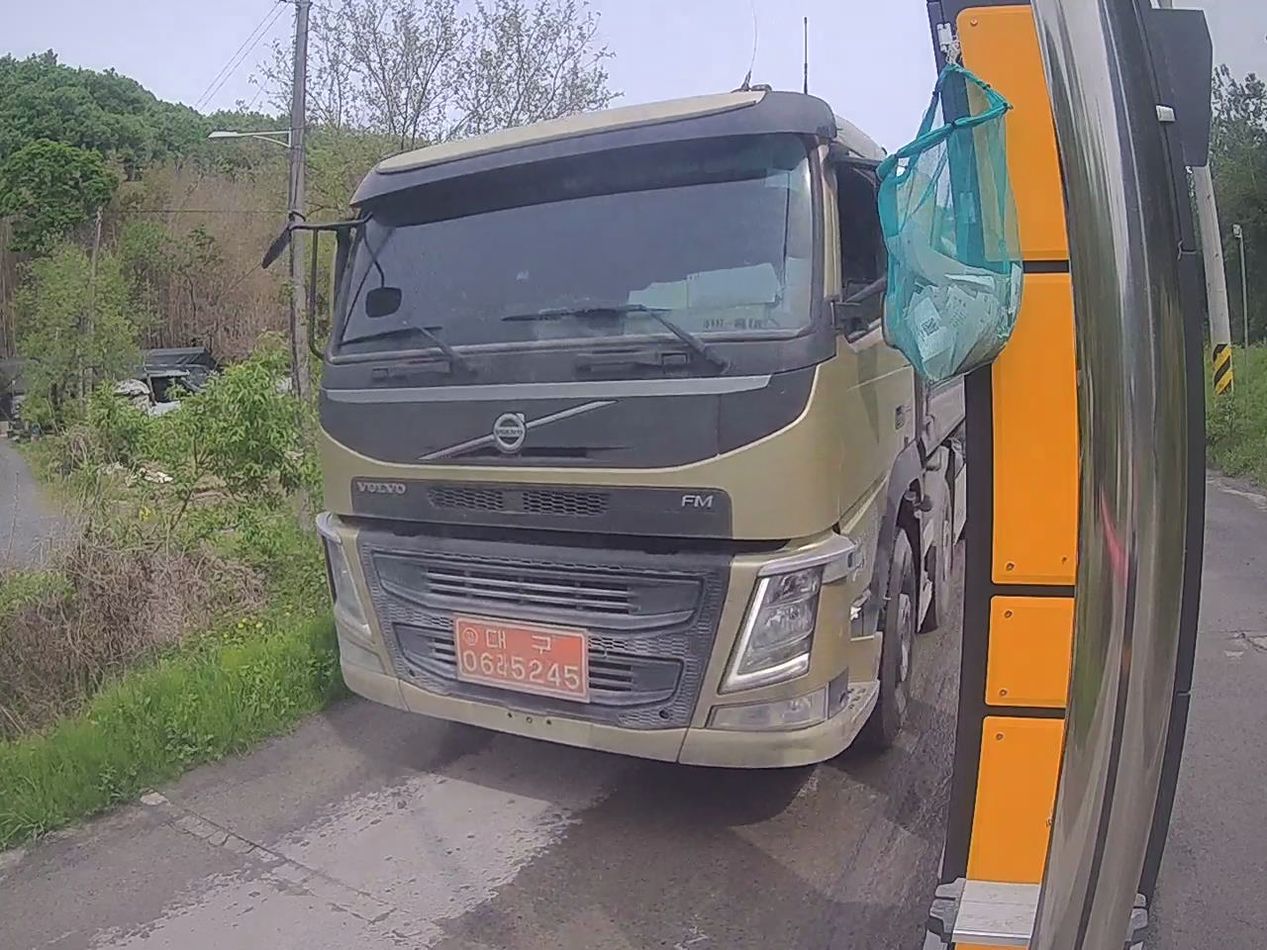license_plate: (455, 618, 589, 701)
truck: (309, 87, 965, 766)
